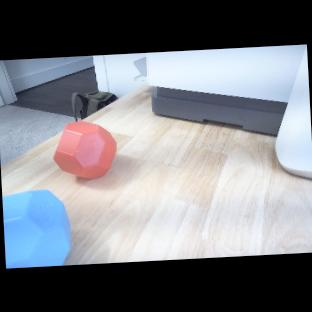V5_BLUE: (2, 188, 73, 268)
V5_RED: (51, 118, 119, 182)
